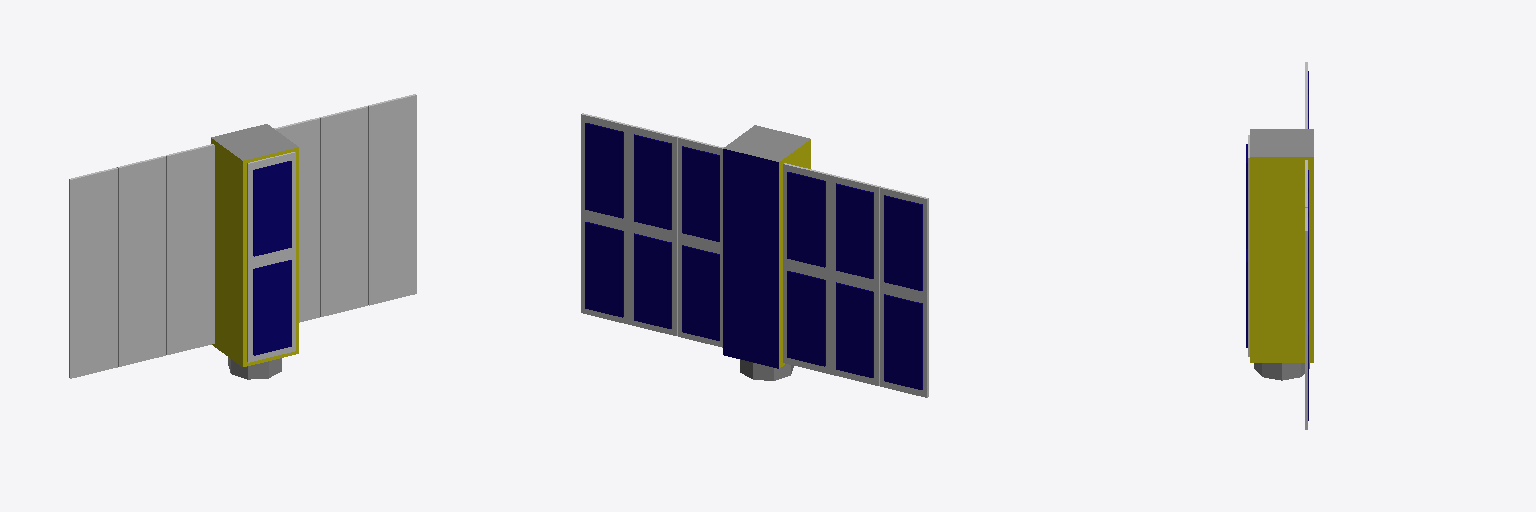
File: flock.obj
The picture shows the model from 3 angles: view 1: azimuth 30°, elevation 25°; view 2: azimuth 150°, elevation 25°; view 3: azimuth 270°, elevation 25°; orthographic projection.
Parts seen in each view (by area): view 1: Cube.039, Cube.007_Cube.008, Cube.036_Cube.035, Cube.017_Cube.019, Cube.030_Cube.028, Cube.005_Cube.006, Cube.022_Cube.025, Cube.031_Cube.020, Cube.032_Cube.021, Cube.033_Cube.034, Cylinder.000_Cylinder.001; view 2: Cube.005_Cube.006, Cube.035_Cube.031, Cube.009_Cube.007, Cube.034_Cube.029, Cube.037, Cube.006_Cube.009, Cube.038, Cube.012_Cube.016, Cube.014_Cube.018, Cube.018_Cube.023, Cube.021_Cube.024, Cube.023_Cube.026 (+8 smaller); view 3: Cube.005_Cube.006, Cylinder.000_Cylinder.001, Cube.039.
Boxes of the visible parts, x1,y1,x2,y2 form: Cube.039: [368, 94, 416, 305]; Cube.007_Cube.008: [166, 144, 214, 354]; Cube.036_Cube.035: [69, 167, 117, 378]; Cube.017_Cube.019: [117, 156, 165, 366]; Cube.030_Cube.028: [319, 106, 367, 316]; Cube.005_Cube.006: [211, 124, 298, 366]; Cube.022_Cube.025: [274, 118, 319, 322]; Cube.031_Cube.020: [253, 260, 291, 355]; Cube.032_Cube.021: [253, 161, 291, 256]; Cube.033_Cube.034: [247, 152, 295, 362]; Cylinder.000_Cylinder.001: [228, 357, 281, 379]; Cube.005_Cube.006: [723, 125, 810, 368]; Cube.035_Cube.031: [884, 294, 922, 389]; Cube.009_Cube.007: [787, 271, 825, 366]; Cube.034_Cube.029: [884, 195, 922, 290]; Cube.037: [585, 222, 623, 317]; Cube.006_Cube.009: [787, 172, 825, 267]; Cube.038: [585, 123, 623, 218]; Cube.012_Cube.016: [836, 183, 873, 278]; Cube.014_Cube.018: [836, 282, 873, 377]; Cube.018_Cube.023: [682, 245, 719, 340]; Cube.021_Cube.024: [682, 146, 719, 241]; Cube.023_Cube.026: [634, 233, 671, 328]; Cube.005_Cube.006: [1250, 129, 1313, 362]; Cylinder.000_Cylinder.001: [1254, 363, 1309, 380]; Cube.039: [1305, 208, 1307, 429].
Bounding box in the file's own units: 9.63 × 6 × 1.63.